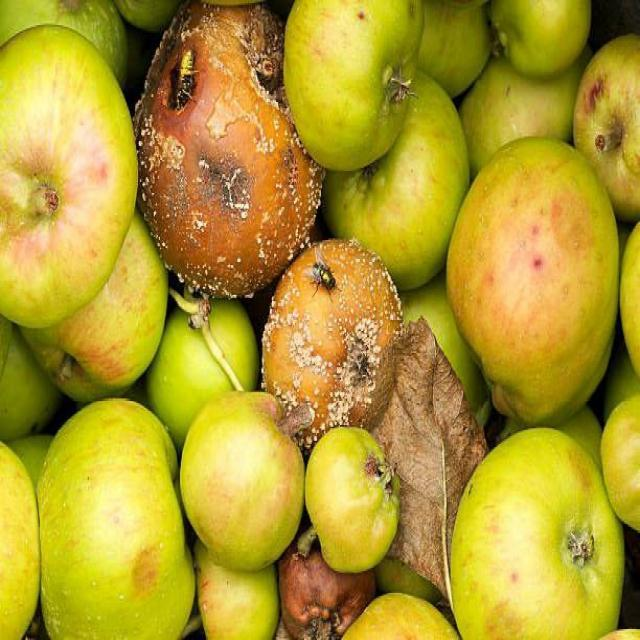Fresh Apple: (182, 400, 305, 567)
Rotten: (120, 30, 330, 287), (247, 237, 408, 440)
